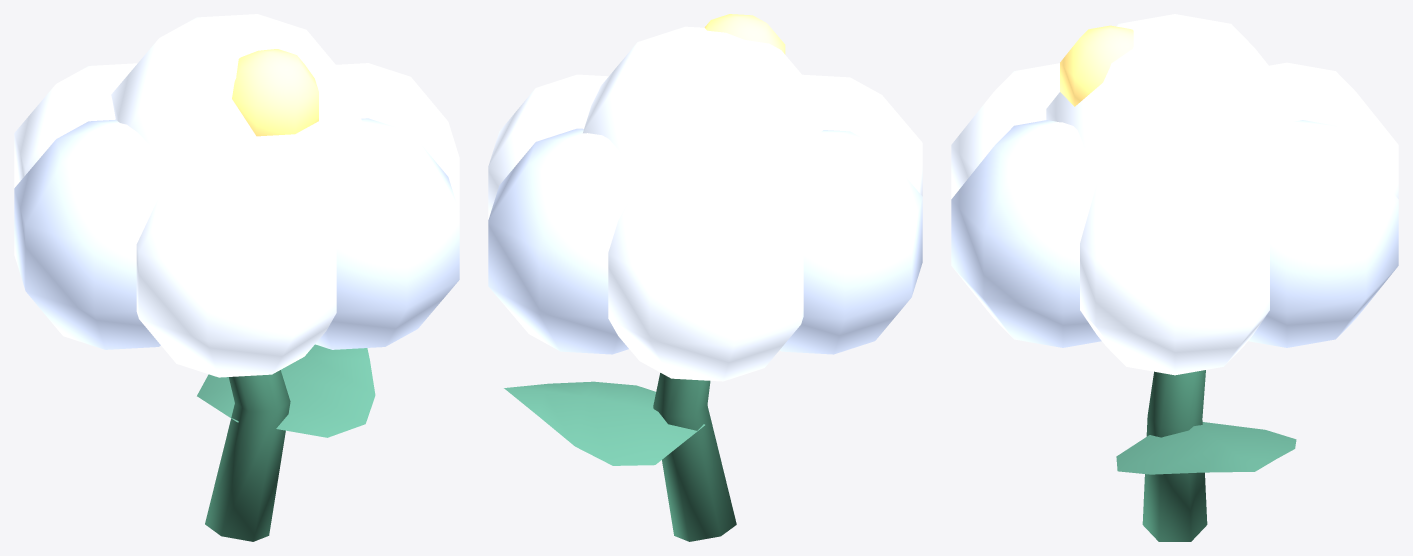
Rendered from flor-de-nuvem.glb.
The picture shows the model from 3 angles, left to right: view 1: azimuth 30°, elevation 25°; view 2: azimuth 150°, elevation 25°; view 3: azimuth 270°, elevation 25°; orthographic projection. The views are drawn at different scales.
Parts seen in each view (by area): view 1: flor-de-nuvem; view 2: flor-de-nuvem; view 3: flor-de-nuvem.
Part boxes in pixels (bbox=[...]): flor-de-nuvem: bbox=[14, 14, 459, 541]; flor-de-nuvem: bbox=[488, 14, 922, 541]; flor-de-nuvem: bbox=[951, 14, 1398, 541].
Bounding box in the file's own units: 0.1641 × 0.1901 × 0.1523.
